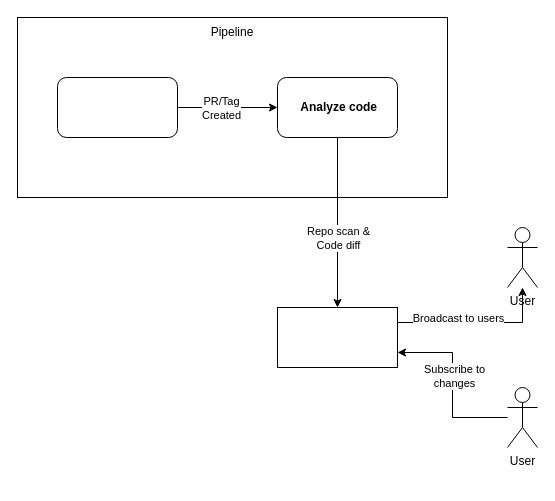
The diagram is 555 pixels wide and 501 high, and some of its shapes have lost their labels. Here are the shapes that lost their labels. From the top down, the centre of each, then its label:
At [117,107]: "Push code".
At [337,337]: "Application".
